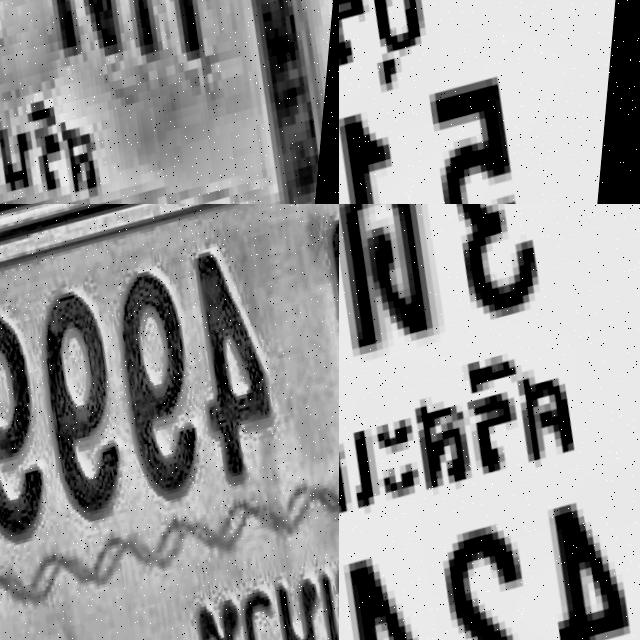license-plate: (0, 204, 339, 640), (339, 204, 640, 640), (0, 0, 339, 204), (339, 0, 640, 204)
